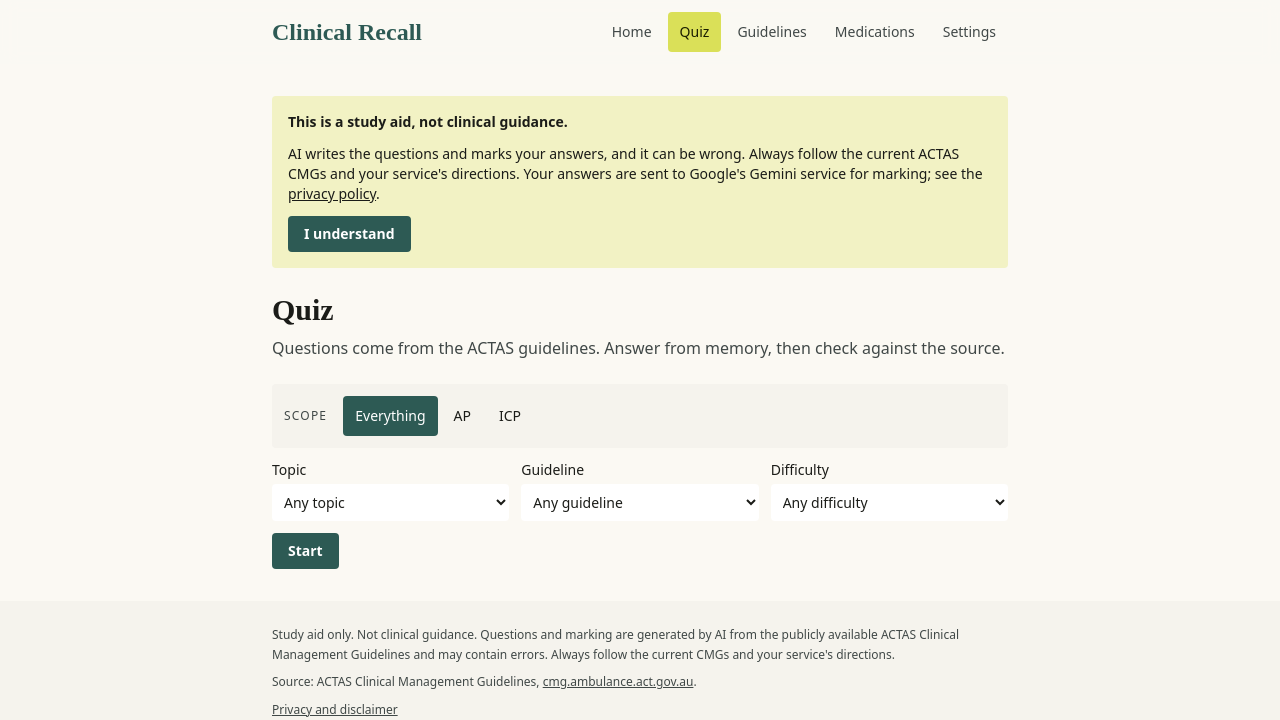
Scenario: quiz › marks a signed-in user's answer and shows the remaining allowance
Click the button "Start". click: (305, 551)
box: [272,533,339,569]
(page scrolled)
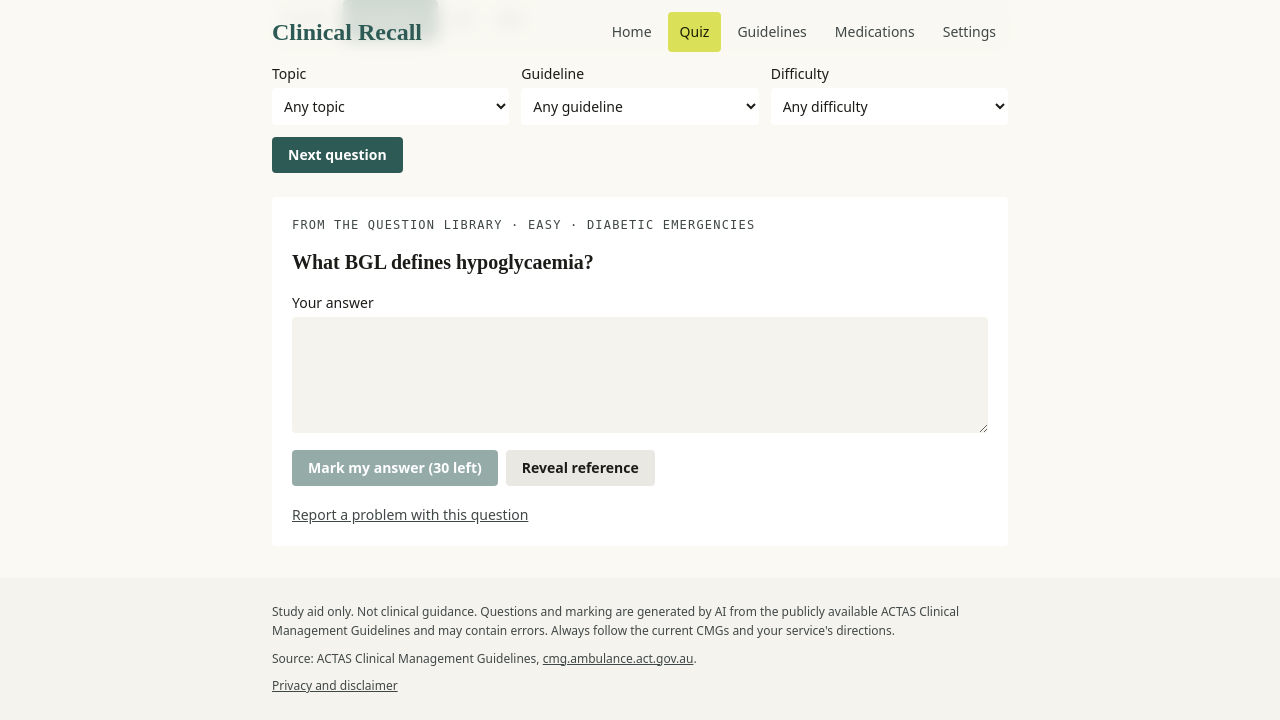
Type "Below 4" into the text box labelled "Your answer". click: (640, 374)
box: [292,316,988,432]
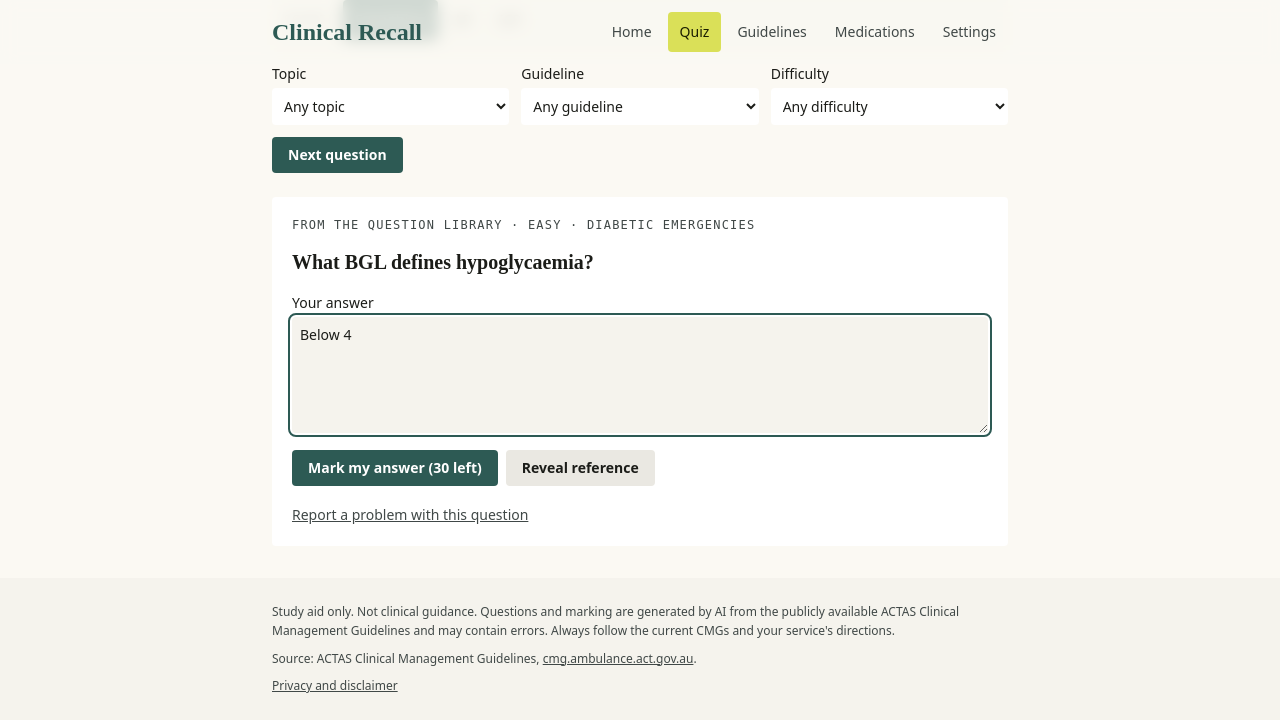
Click the button "Mark my answer (30 left)". click: (395, 468)
box: [292,450,498,486]
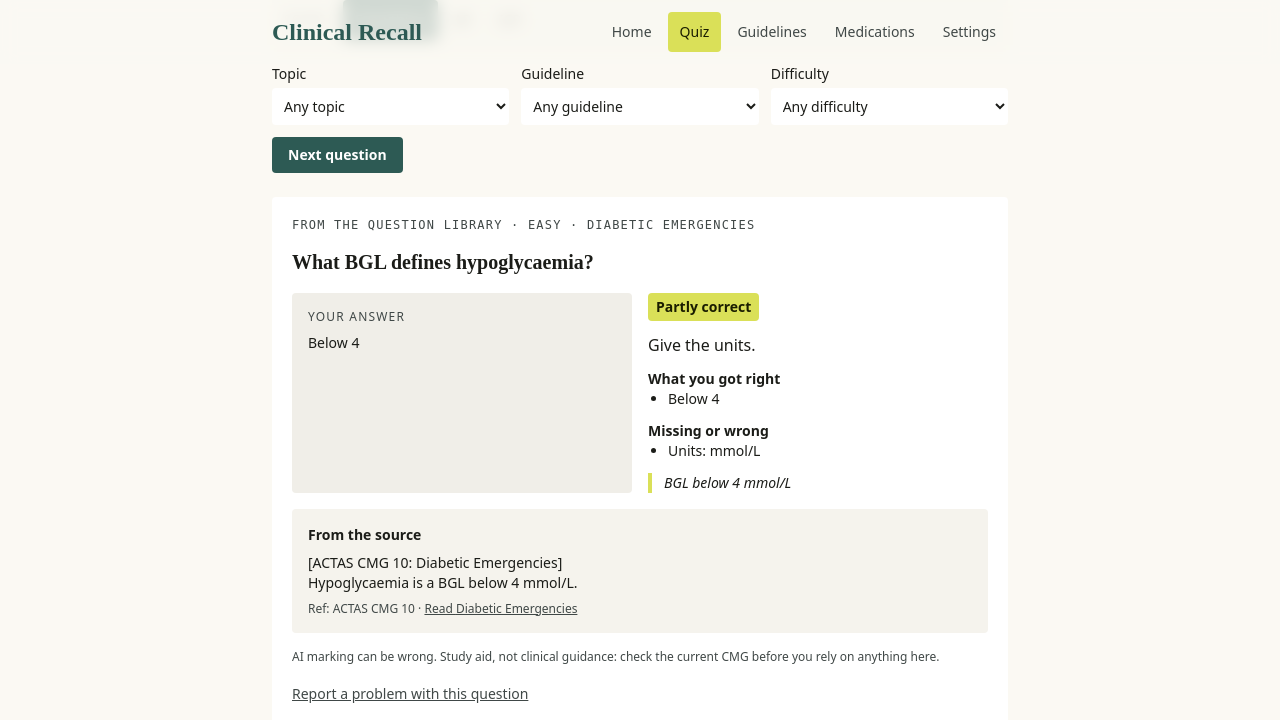
Check: the text "Partly correct" is shown, box [648,292,759,320]
Check: the list item "Units: mmol/L" is shown, box [668,440,760,460]
Check: the text "Give the units." is shown, box [648,334,756,356]
